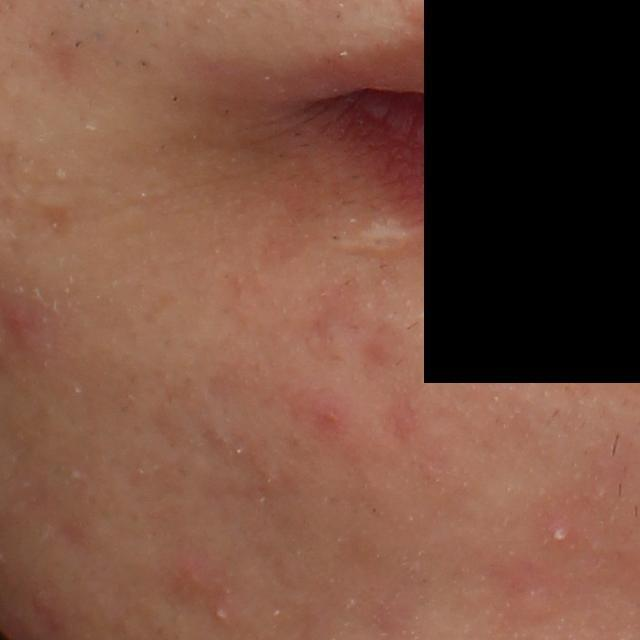hypertrophic_scar: (319, 216, 423, 256)
papule: (159, 546, 217, 606)
pustule: (545, 517, 573, 547), (211, 601, 234, 623)
